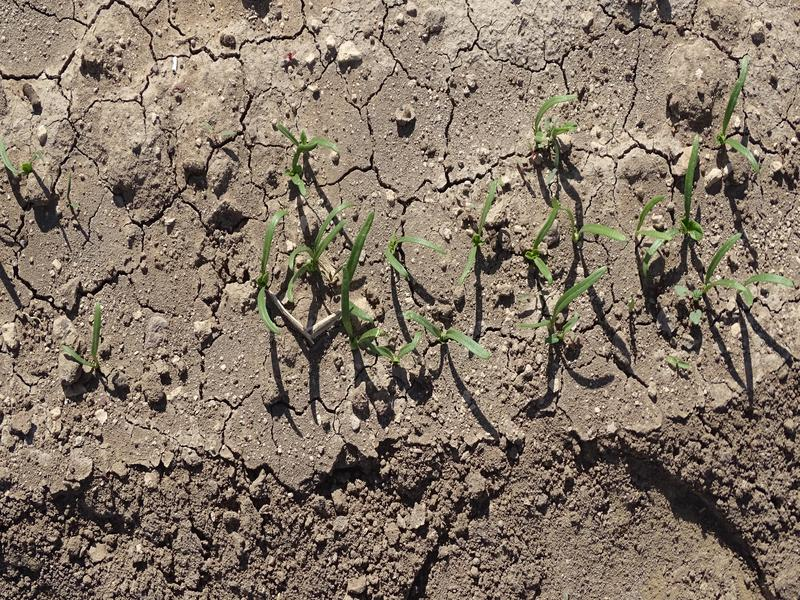Espinaca: (246, 211, 505, 363), (527, 208, 631, 337), (691, 225, 793, 306), (637, 141, 707, 246), (271, 124, 338, 196), (721, 61, 764, 170), (531, 91, 580, 155)
